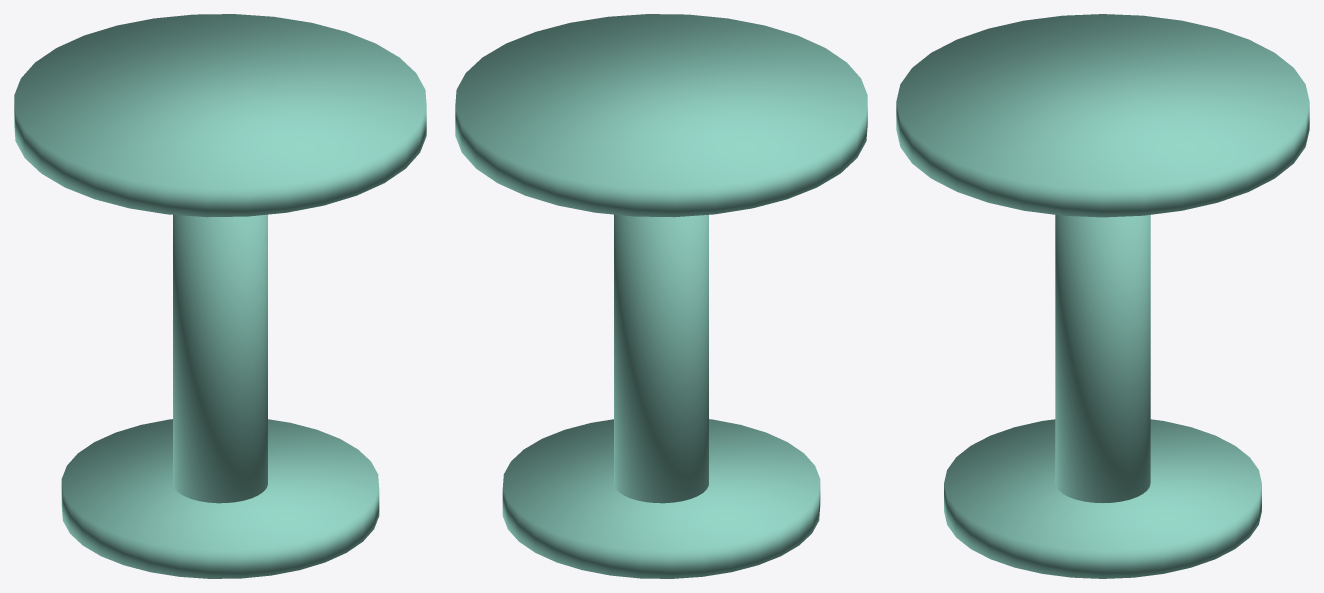
Rendered from PoolSideTable.fbx.
3 renders of one model, left to right at view 1: azimuth 30°, elevation 25°; view 2: azimuth 150°, elevation 25°; view 3: azimuth 270°, elevation 25°, orthographic.
Parts seen in each view (by area): view 1: table_top, table_foot, table_stem; view 2: table_top, table_foot, table_stem; view 3: table_top, table_foot, table_stem.
Boxes of the visible parts, x1,y1,x2,y2 form: table_top: (14, 14, 426, 217); table_foot: (61, 419, 379, 578); table_stem: (173, 214, 267, 503); table_top: (455, 14, 867, 217); table_foot: (502, 419, 820, 578); table_stem: (614, 214, 708, 503); table_top: (896, 14, 1309, 217); table_foot: (944, 419, 1261, 578); table_stem: (1055, 215, 1150, 502).
Bounding box in the file's own units: 0.52 × 0.57 × 0.52.
